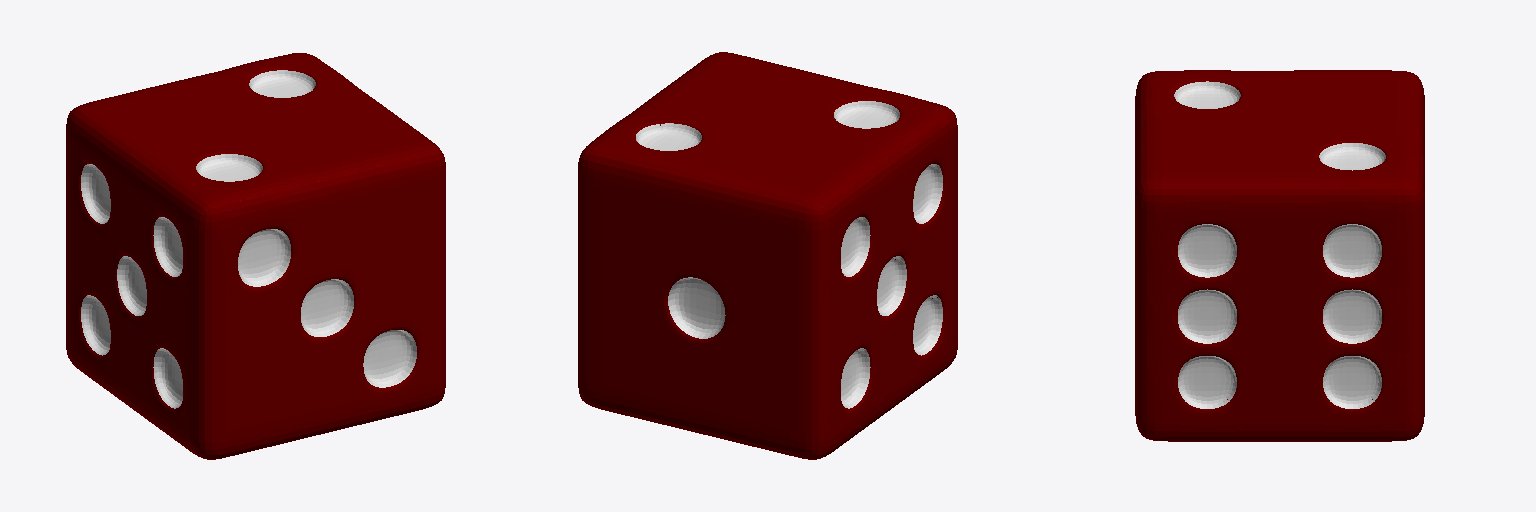
3 renders of one model, left to right at view 1: azimuth 30°, elevation 25°; view 2: azimuth 150°, elevation 25°; view 3: azimuth 270°, elevation 25°, orthographic.
Visible parts, largest first — view 1: Cube; view 2: Cube; view 3: Cube.
Boxes of the visible parts, box(x1,y1,x2,y2) form: Cube: box(66, 53, 445, 459); Cube: box(578, 52, 957, 459); Cube: box(1135, 70, 1424, 441).
Bounding box in the file's own units: 1 × 1 × 1.
1 materials, 1 textured.